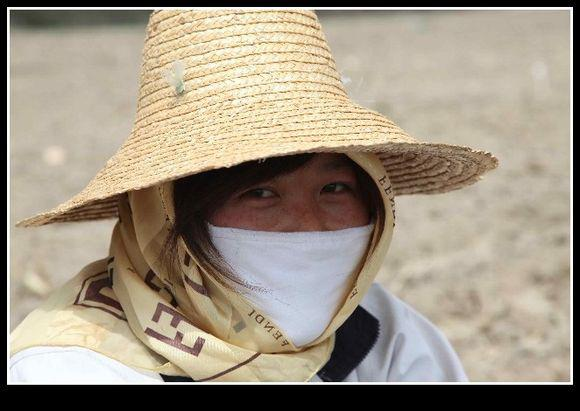WRONG: (191, 157, 393, 359)
